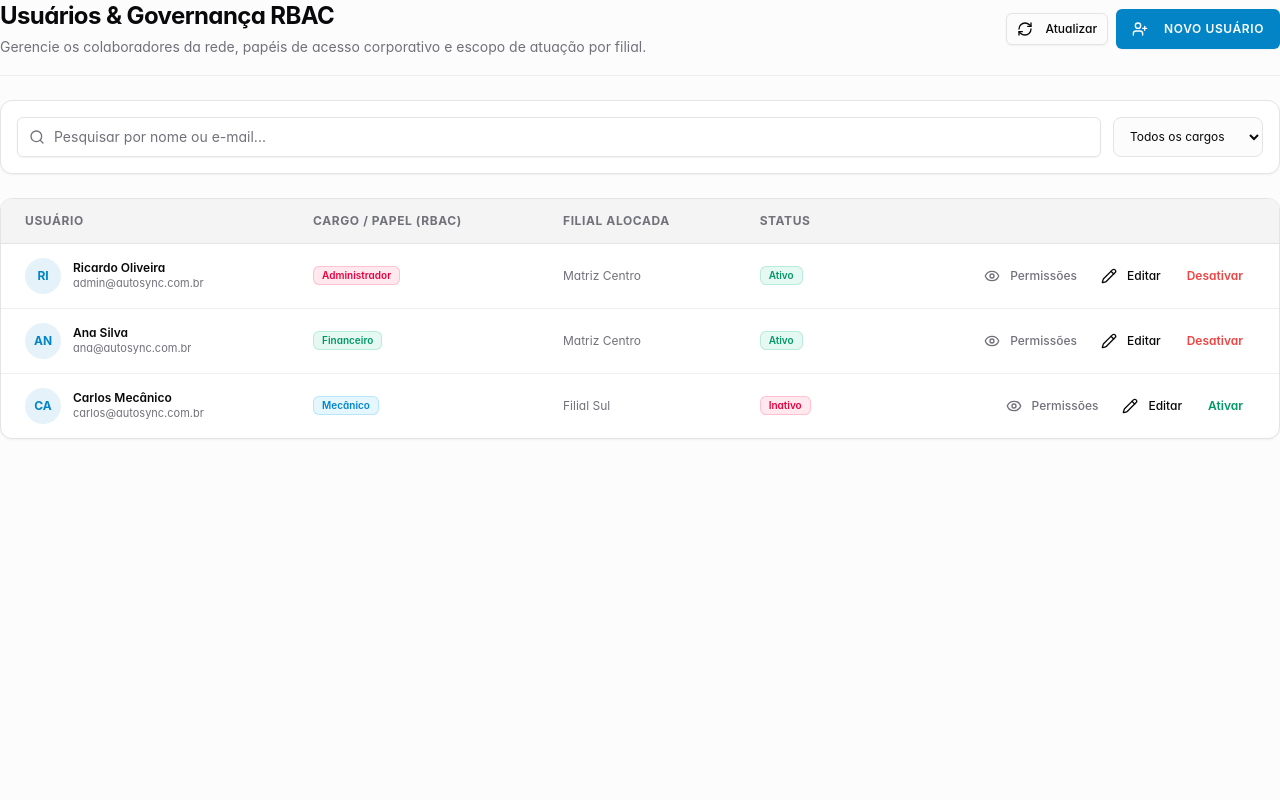
Users & RBAC Module (Integrated Management) › 7. should open confirmation dialog for user deactivation
Expected: the text "Ricardo Oliveira" is shown, [73,260,165,275]
Click the button "Desativar" in the row of "Ana Silva" at (1215,341), box [1175,325,1255,357]
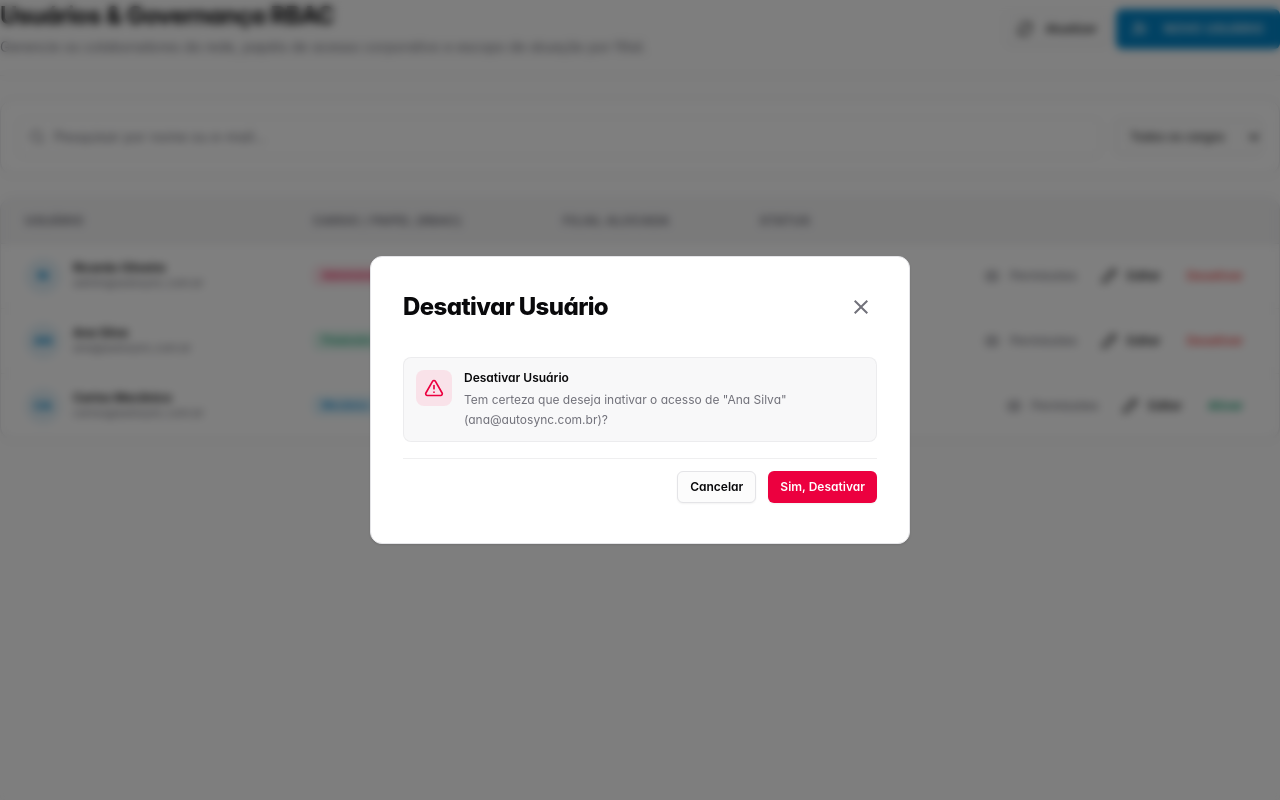
Expected: the button "Sim, Desativar" is shown, [768,471,877,503]
